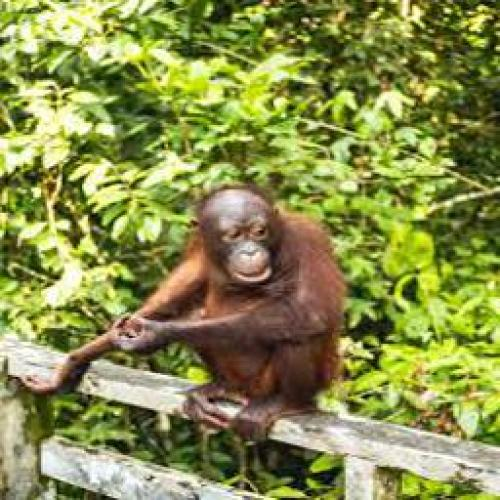orangutan-endangered: (8, 182, 346, 442)
